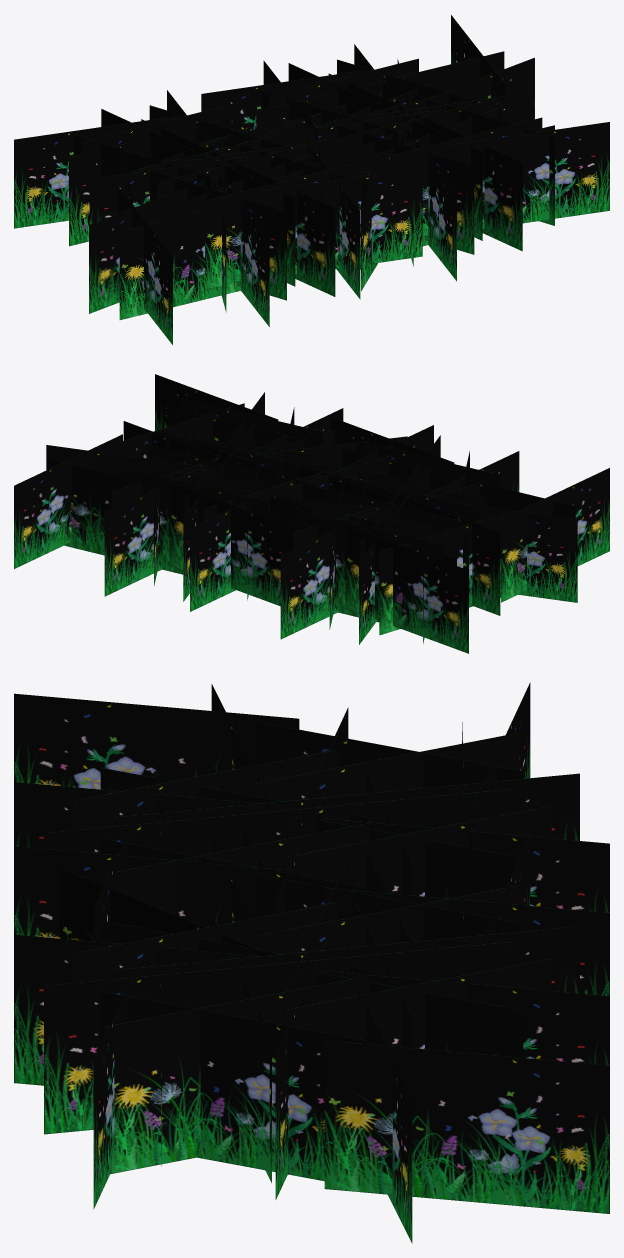
The model's file is grassnflowers3.fbx.
3 renders of one model, top to bottom at view 1: azimuth 30°, elevation 25°; view 2: azimuth 150°, elevation 25°; view 3: azimuth 270°, elevation 25°, orthographic. The views are drawn at different scales.
Visible parts, largest first — view 1: Transparent_Grass_and_Flowers_Clipart.039; view 2: Transparent_Grass_and_Flowers_Clipart.039; view 3: Transparent_Grass_and_Flowers_Clipart.039.
Part boxes in pixels (x1,y1,x2,y2): Transparent_Grass_and_Flowers_Clipart.039: (14, 15, 609, 344); Transparent_Grass_and_Flowers_Clipart.039: (14, 374, 609, 653); Transparent_Grass_and_Flowers_Clipart.039: (14, 682, 609, 1243).
Bounding box in the file's own units: 595 × 113 × 364.
Materials: 1 (1 with a texture image).
